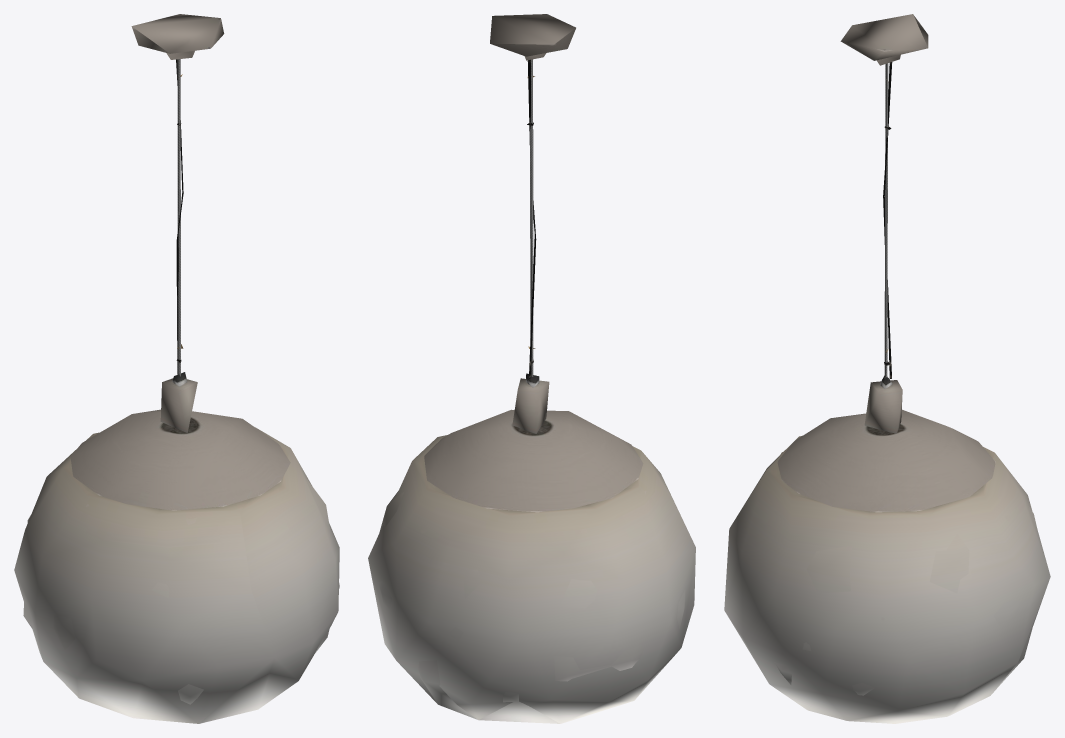
File: ModernCeilingLampLOD2.fbx
3 renders of one model, left to right at view 1: azimuth 30°, elevation 25°; view 2: azimuth 150°, elevation 25°; view 3: azimuth 270°, elevation 25°, orthographic.
Visible parts, largest first — view 1: modern_ceiling_lamp_01; view 2: modern_ceiling_lamp_01; view 3: modern_ceiling_lamp_01.
Part boxes in pixels (x1=…): modern_ceiling_lamp_01: x1=14, y1=14, x2=339, y2=723; modern_ceiling_lamp_01: x1=368, y1=14, x2=695, y2=723; modern_ceiling_lamp_01: x1=724, y1=14, x2=1050, y2=723.
Bounding box in the file's own units: 43.37 × 95.2 × 43.67.
3 materials, 3 textured.
